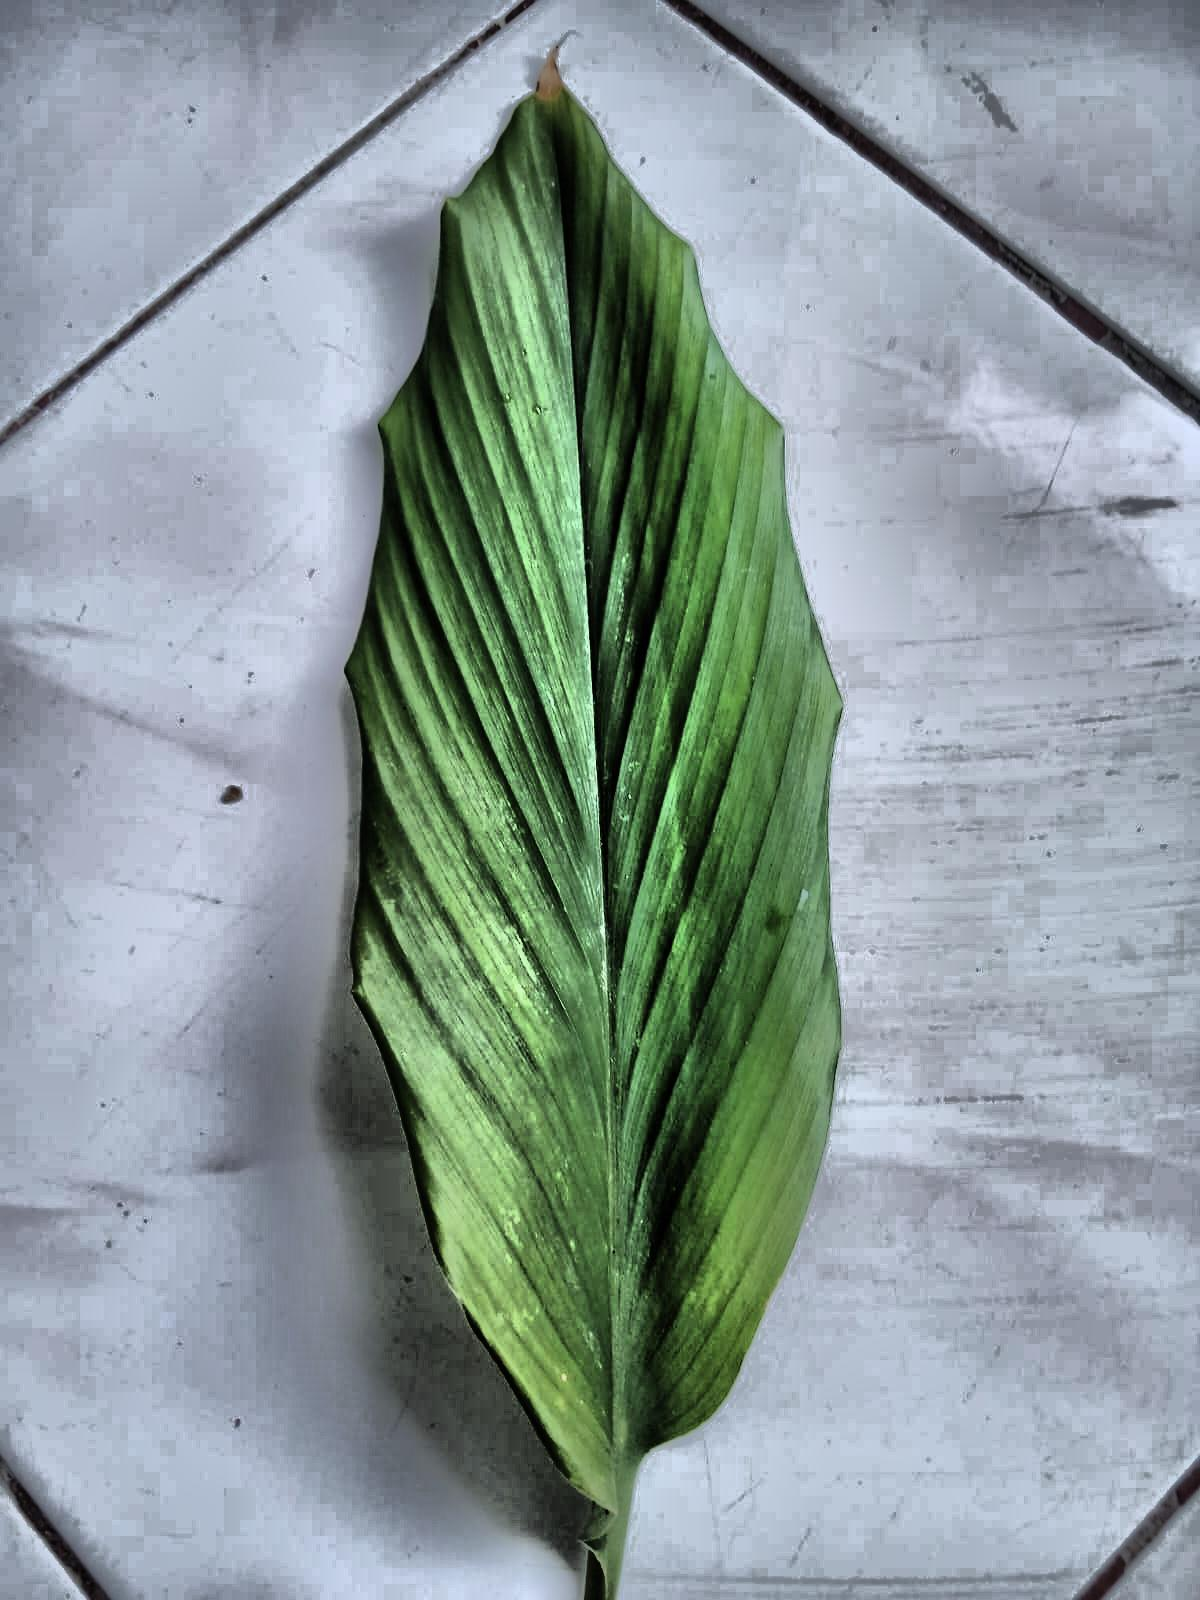daun kunyit: (345, 60, 841, 1599)
